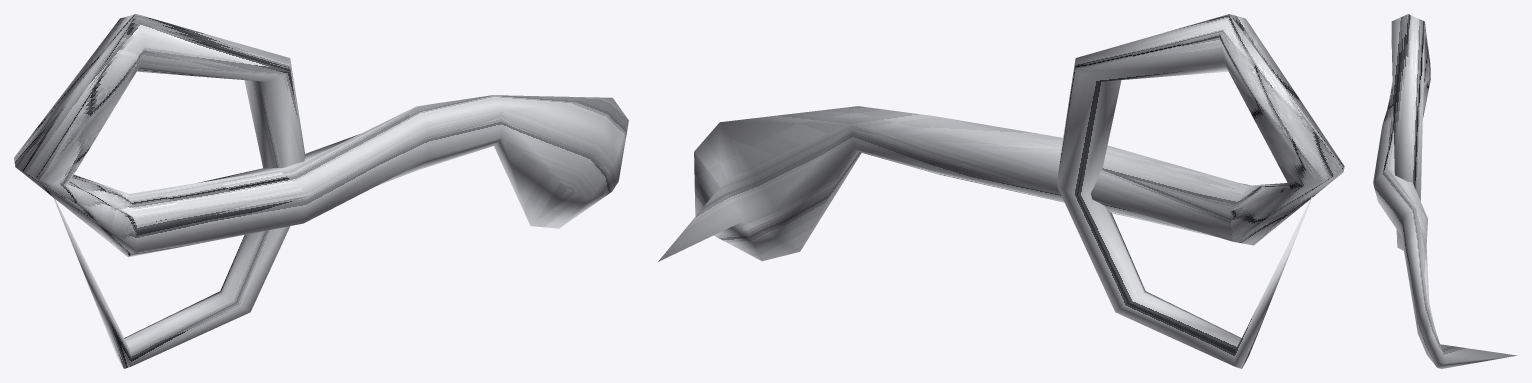
File: snake_000088.obj
3 views of the same model, side by side, from view 1: azimuth 30°, elevation 25°; view 2: azimuth 150°, elevation 25°; view 3: azimuth 270°, elevation 25° (orthographic). The views are drawn at different scales.
Visible parts, largest first — view 1: Cylinder; view 2: Cylinder; view 3: Cylinder.
Boxes of the visible parts, left/top/right/bottom form: Cylinder: left=14, top=14, right=628, bottom=368; Cylinder: left=658, top=14, right=1344, bottom=368; Cylinder: left=1373, top=14, right=1516, bottom=368.
Size of the model in its own units: 4.58 by 2.44 by 1.44.
